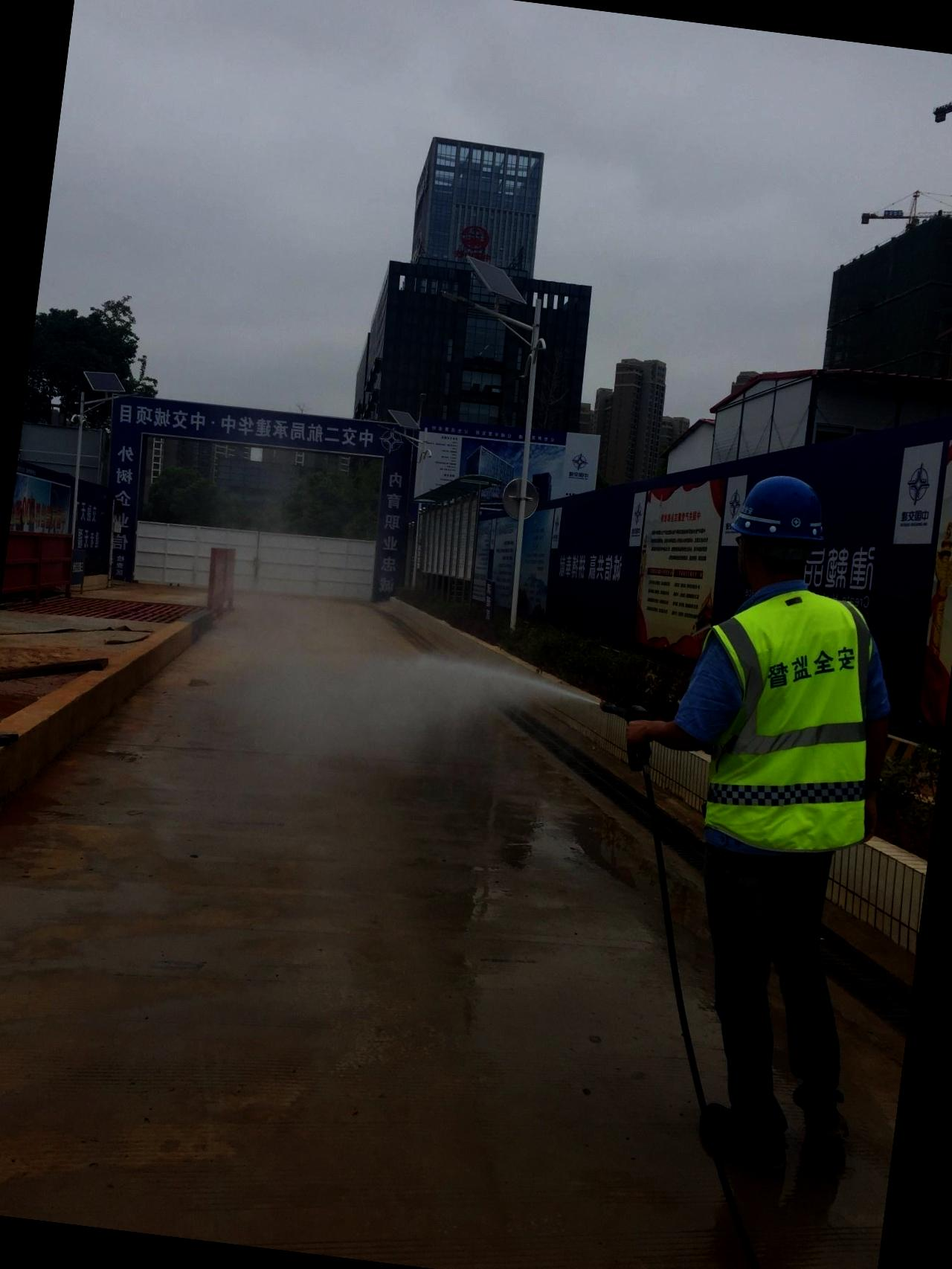helmet: (711, 470, 841, 560)
person: (581, 448, 932, 1185)
